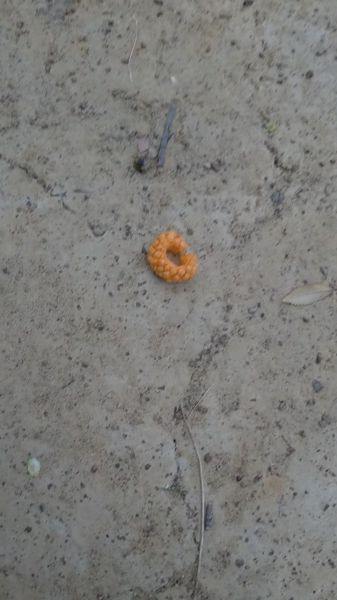eggs: (144, 221, 207, 298)
